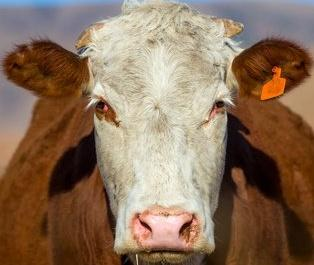muzzles: (114, 208, 217, 265)
